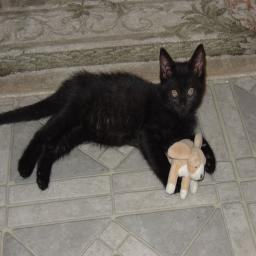catnose: (178, 102, 188, 112)
